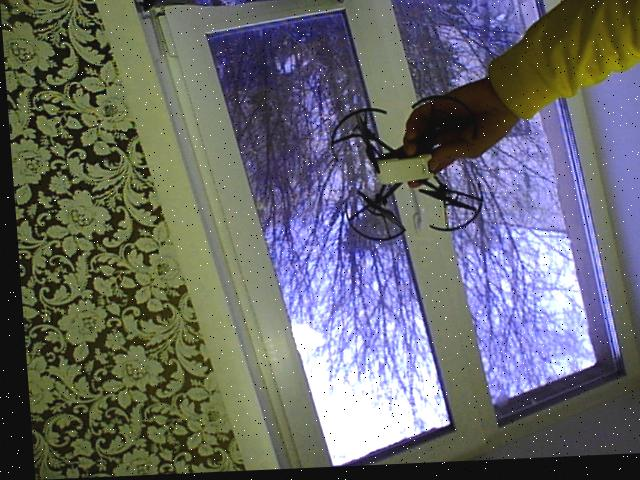drone: (316, 102, 490, 248)
